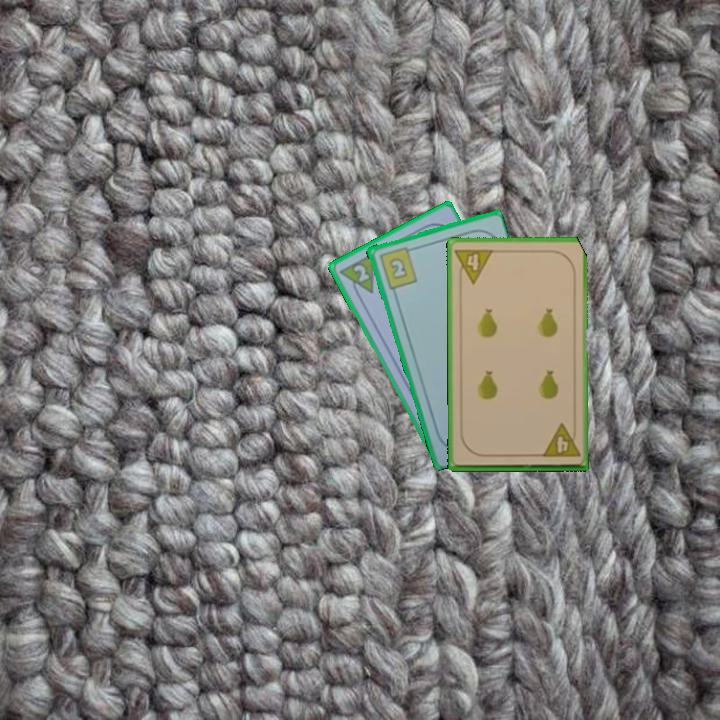2b: (375, 243, 420, 292)
2p: (335, 249, 377, 302)
4p: (452, 245, 496, 286), (538, 421, 583, 460)
